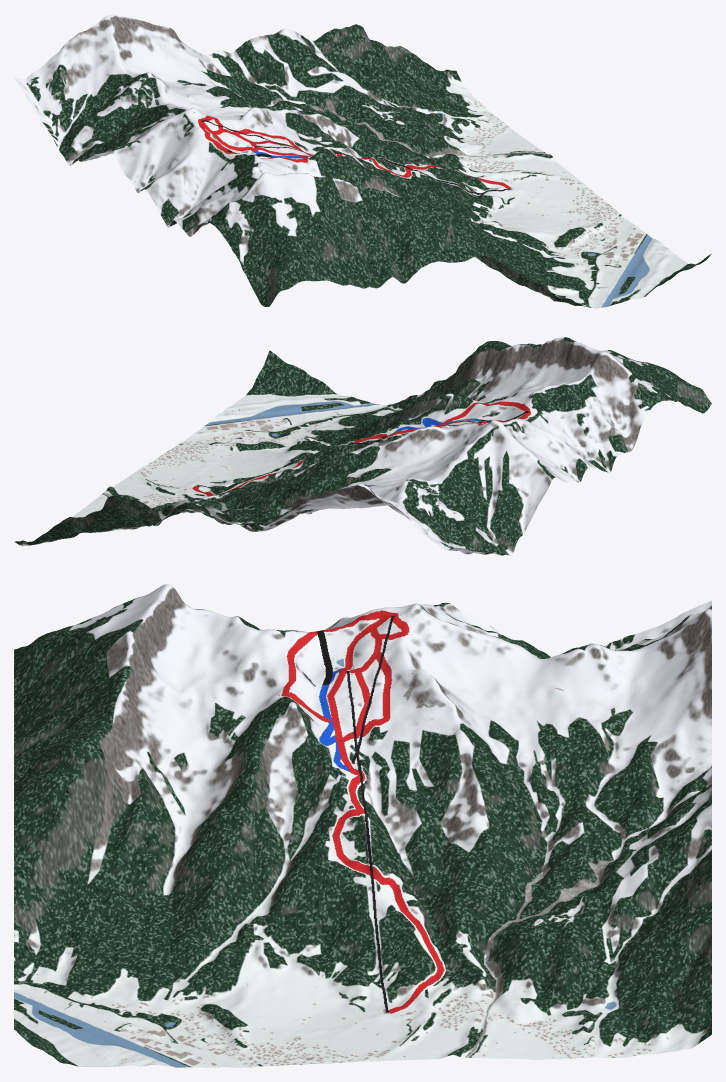
3 renders of one model, top to bottom at view 1: azimuth 30°, elevation 25°; view 2: azimuth 150°, elevation 25°; view 3: azimuth 270°, elevation 25°, orthographic. The views are drawn at different scales.
Visible parts, largest first — view 1: H1_Hahnenkamm.glb; view 2: H1_Hahnenkamm.glb; view 3: H1_Hahnenkamm.glb.
Boxes of the visible parts, bbox=[...] form: H1_Hahnenkamm.glb: bbox=[14, 14, 711, 308]; H1_Hahnenkamm.glb: bbox=[14, 337, 711, 555]; H1_Hahnenkamm.glb: bbox=[14, 584, 711, 1067].
Size of the model in its own units: 3966 by 1419 by 3966.
1 material, 1 textured.
